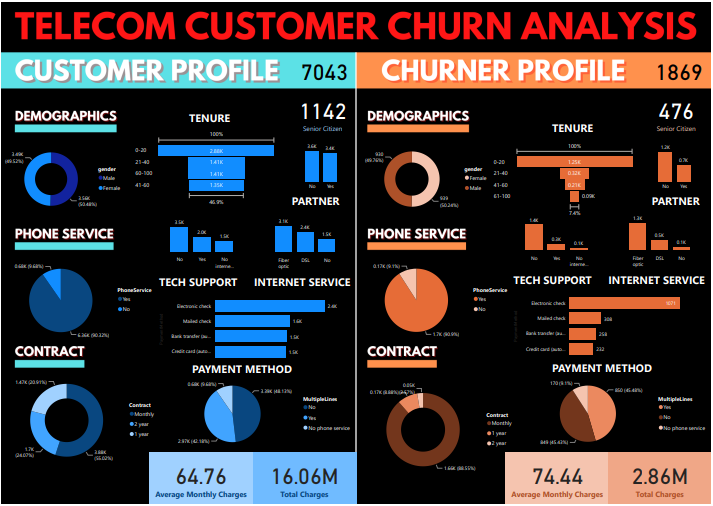

Layout of this report page (visuals, bound fields, positions):
{"tool":"powerbi","page":{"name":"Page 3","canvas":[1754,1240],"ordinal":0},"visuals":[{"type":"donutChart","title":"Entire - Gender Distribution","fields":{"Category":["Telco-Churn-Analysis.gender"],"Y":["CountNonNull(Telco-Churn-Analysis.gender)"]},"box":[0,337.3,307.5,198.4],"z":0},{"type":"donutChart","title":"Churn - Gender Distribution","fields":{"Category":["Churner data.gender"],"Y":["CountNonNull(Churner data.gender)"]},"box":[877.9,337.3,334.8,198.4],"z":1000},{"type":"card","fields":{"Values":["Sum(Telco-Churn-Analysis.SeniorCitizen)"]},"box":[711.7,217.7,163.7,109.1],"z":2000},{"type":"card","fields":{"Values":["Sum(Churner data.SeniorCitizen)"]},"box":[1587.2,217.7,163.7,109.1],"z":3000},{"type":"card","fields":{"Values":["CountNonNull(Churner data.Contract)"]},"box":[1594.6,126.5,158.7,76.9],"z":4000},{"type":"card","fields":{"Values":["CountNonNull(Telco-Churn-Analysis.Contract)"]},"box":[719.2,126.5,158.7,76.9],"z":5000},{"type":"funnel","fields":{"Category":["Churner data.Tenure_Bins"],"Y":["CountNonNull(Churner data.Tenure_Bins)"]},"box":[1212.7,337.3,357.1,198.4],"z":6000},{"type":"funnel","fields":{"Category":["Telco-Churn-Analysis.Tenure_Bins"],"Y":["CountNonNull(Telco-Churn-Analysis.Tenure_Bins)"]},"box":[325,308.3,357.3,197.9],"z":7000},{"type":"clusteredColumnChart","fields":{"Category":["Telco-Churn-Analysis.Partner"],"Y":["CountNonNull(Telco-Churn-Analysis.Partner)"]},"box":[704.3,331.8,171.1,138.9],"z":8000},{"type":"clusteredColumnChart","fields":{"Category":["Churner data.Partner"],"Y":["CountNonNull(Churner data.Partner)"]},"box":[1579.7,331.8,171.1,138.9],"z":9000},{"type":"textbox","box":[458.3,259.4,129.2,52.1],"z":10000},{"type":"textbox","box":[1356.6,285.2,131.4,52.1],"z":11000},{"type":"textbox","box":[1602.1,468.2,148.8,52.1],"z":12000},{"type":"textbox","box":[711.7,468.2,146.3,52.1],"z":13000},{"type":"pieChart","fields":{"Category":["Telco-Churn-Analysis.PhoneService"],"Y":["CountNonNull(Telco-Churn-Analysis.PhoneService)"]},"box":[0,620,391.8,230.6],"z":14000},{"type":"pieChart","fields":{"Category":["Churner data.PhoneService"],"Y":["CountNonNull(Churner data.PhoneService)"]},"box":[880,620,392.5,230],"z":15000},{"type":"donutChart","fields":{"Category":["Telco-Churn-Analysis.Contract"],"Y":["CountNonNull(Telco-Churn-Analysis.Contract)"]},"box":[0,897.5,392.5,270],"z":16000},{"type":"donutChart","fields":{"Category":["Churner data.Contract"],"Y":["CountNonNull(Churner data.Contract)"]},"box":[880,920,397.5,270],"z":17000},{"type":"clusteredBarChart","fields":{"Category":["Telco-Churn-Analysis.PaymentMethod"],"Y":["CountNonNull(Telco-Churn-Analysis.PaymentMethod)"]},"box":[383.1,706.2,453.8,192.3],"z":18000},{"type":"clusteredColumnChart","fields":{"Category":["Telco-Churn-Analysis.InternetService"],"Y":["CountNonNull(Telco-Churn-Analysis.InternetService)"]},"box":[641.5,516.9,210.8,150.8],"z":19000},{"type":"clusteredColumnChart","fields":{"Category":["Telco-Churn-Analysis.TechSupport"],"Y":["CountNonNull(Telco-Churn-Analysis.TechSupport)"]},"box":[383.1,521.5,216.9,146.2],"z":20000},{"type":"textbox","box":[618.8,668.2,258.8,52.9],"z":21000},{"type":"textbox","box":[383.5,668.2,230.6,52.9],"z":22000},{"type":"textbox","box":[466.3,881.9,267.5,51.8],"z":23000},{"type":"clusteredColumnChart","fields":{"Category":["Churner data.InternetService"],"Y":["CountNonNull(Churner data.InternetService)"]},"box":[1517.8,511.9,210.8,150.8],"z":24000},{"type":"clusteredColumnChart","fields":{"Category":["Churner data.TechSupport"],"Y":["CountNonNull(Churner data.TechSupport)"]},"box":[1259.3,516.5,216.9,146.2],"z":25000},{"type":"textbox","box":[1495.1,663.2,258.8,52.9],"z":26000},{"type":"textbox","box":[1259.8,663.2,230.6,52.9],"z":27000},{"type":"clusteredBarChart","fields":{"Category":["Churner data.PaymentMethod"],"Y":["CountNonNull(Churner data.PaymentMethod)"]},"box":[1259.3,701.2,453.8,192.3],"z":28000},{"type":"textbox","box":[1355.8,879.1,267.4,53.5],"z":29000},{"type":"card","fields":{"Values":["Avg(Churner data.MonthlyCharges)"]},"box":[1247.5,1112.5,255,127.5],"z":30000},{"type":"card","fields":{"Values":["Sum(Churner data.TotalCharges)"]},"box":[1500,1112.5,255,127.5],"z":31000},{"type":"card","fields":{"Values":["Avg(Telco-Churn-Analysis.MonthlyCharges)"]},"box":[365,1112.5,255,127.5],"z":32000},{"type":"card","fields":{"Values":["Sum(Telco-Churn-Analysis.TotalCharges)"]},"box":[620,1112.5,255,127.5],"z":33000},{"type":"pieChart","fields":{"Category":["Telco-Churn-Analysis.MultipleLines"],"Y":["CountNonNull(Telco-Churn-Analysis.MultipleLines)"]},"box":[391.6,920.5,484.3,191.6],"z":34000},{"type":"pieChart","fields":{"Category":["Churner data.MultipleLines"],"Y":["CountNonNull(Churner data.MultipleLines)"]},"box":[1269.8,920.9,483.7,190.7],"z":35000}]}

Visuals, with their boxes in screenshot pixels (x1, y1, x2, y2), scaled from the page's 1754x1240 canvas onto the 713x506 screenshot:
"Entire - Gender Distribution" donutChart: locate(0, 138, 125, 219)
"Churn - Gender Distribution" donutChart: locate(357, 138, 493, 219)
card - Sum(Telco-Churn-Analysis.SeniorCitizen): locate(289, 89, 356, 133)
card - Sum(Churner data.SeniorCitizen): locate(645, 89, 712, 133)
card - CountNonNull(Churner data.Contract): locate(648, 52, 712, 83)
card - CountNonNull(Telco-Churn-Analysis.Contract): locate(292, 52, 357, 83)
funnel - Churner data.Tenure_Bins x CountNonNull(Churner data.Tenure_Bins): locate(493, 138, 638, 219)
funnel - Telco-Churn-Analysis.Tenure_Bins x CountNonNull(Telco-Churn-Analysis.Tenure_Bins): locate(132, 126, 277, 207)
clusteredColumnChart - Telco-Churn-Analysis.Partner x CountNonNull(Telco-Churn-Analysis.Partner): locate(286, 135, 356, 192)
clusteredColumnChart - Churner data.Partner x CountNonNull(Churner data.Partner): locate(642, 135, 712, 192)
textbox: locate(186, 106, 239, 127)
textbox: locate(551, 116, 605, 138)
textbox: locate(651, 191, 712, 212)
textbox: locate(289, 191, 349, 212)
pieChart - Telco-Churn-Analysis.PhoneService x CountNonNull(Telco-Churn-Analysis.PhoneService): locate(0, 253, 159, 347)
pieChart - Churner data.PhoneService x CountNonNull(Churner data.PhoneService): locate(358, 253, 517, 347)
donutChart - Telco-Churn-Analysis.Contract x CountNonNull(Telco-Churn-Analysis.Contract): locate(0, 366, 160, 476)
donutChart - Churner data.Contract x CountNonNull(Churner data.Contract): locate(358, 375, 519, 486)
clusteredBarChart - Telco-Churn-Analysis.PaymentMethod x CountNonNull(Telco-Churn-Analysis.PaymentMethod): locate(156, 288, 340, 367)
clusteredColumnChart - Telco-Churn-Analysis.InternetService x CountNonNull(Telco-Churn-Analysis.InternetService): locate(261, 211, 346, 272)
clusteredColumnChart - Telco-Churn-Analysis.TechSupport x CountNonNull(Telco-Churn-Analysis.TechSupport): locate(156, 213, 244, 272)
textbox: locate(252, 273, 357, 294)
textbox: locate(156, 273, 250, 294)
textbox: locate(190, 360, 298, 381)
clusteredColumnChart - Churner data.InternetService x CountNonNull(Churner data.InternetService): locate(617, 209, 703, 270)
clusteredColumnChart - Churner data.TechSupport x CountNonNull(Churner data.TechSupport): locate(512, 211, 600, 270)
textbox: locate(608, 271, 712, 292)
textbox: locate(512, 271, 606, 292)
clusteredBarChart - Churner data.PaymentMethod x CountNonNull(Churner data.PaymentMethod): locate(512, 286, 696, 365)
textbox: locate(551, 359, 660, 381)
card - Avg(Churner data.MonthlyCharges): locate(507, 454, 611, 505)
card - Sum(Churner data.TotalCharges): locate(610, 454, 712, 505)
card - Avg(Telco-Churn-Analysis.MonthlyCharges): locate(148, 454, 252, 505)
card - Sum(Telco-Churn-Analysis.TotalCharges): locate(252, 454, 356, 505)
pieChart - Telco-Churn-Analysis.MultipleLines x CountNonNull(Telco-Churn-Analysis.MultipleLines): locate(159, 376, 356, 454)
pieChart - Churner data.MultipleLines x CountNonNull(Churner data.MultipleLines): locate(516, 376, 712, 454)
